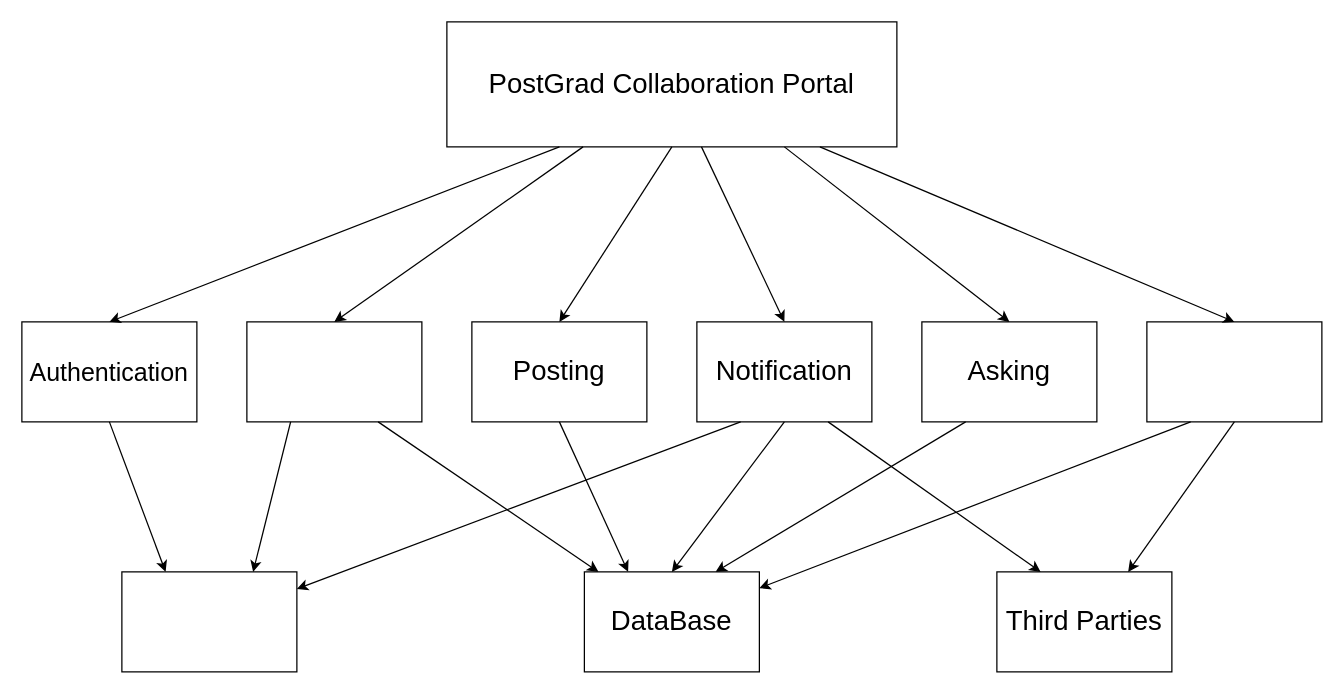
Image size: 1344x694. Some labels were removed from this diagram. The centre of each missing label's shape, as x and y in pixels:
"Chatting" belongs at point 1234,371.
"GUC Server" belongs at point 209,621.
"Profiles" belongs at point 334,371.
